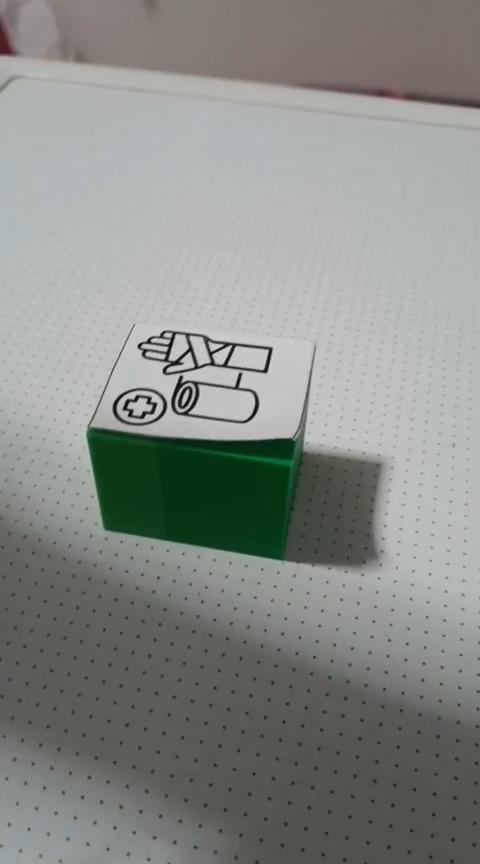Bandages: (85, 323, 316, 560)
